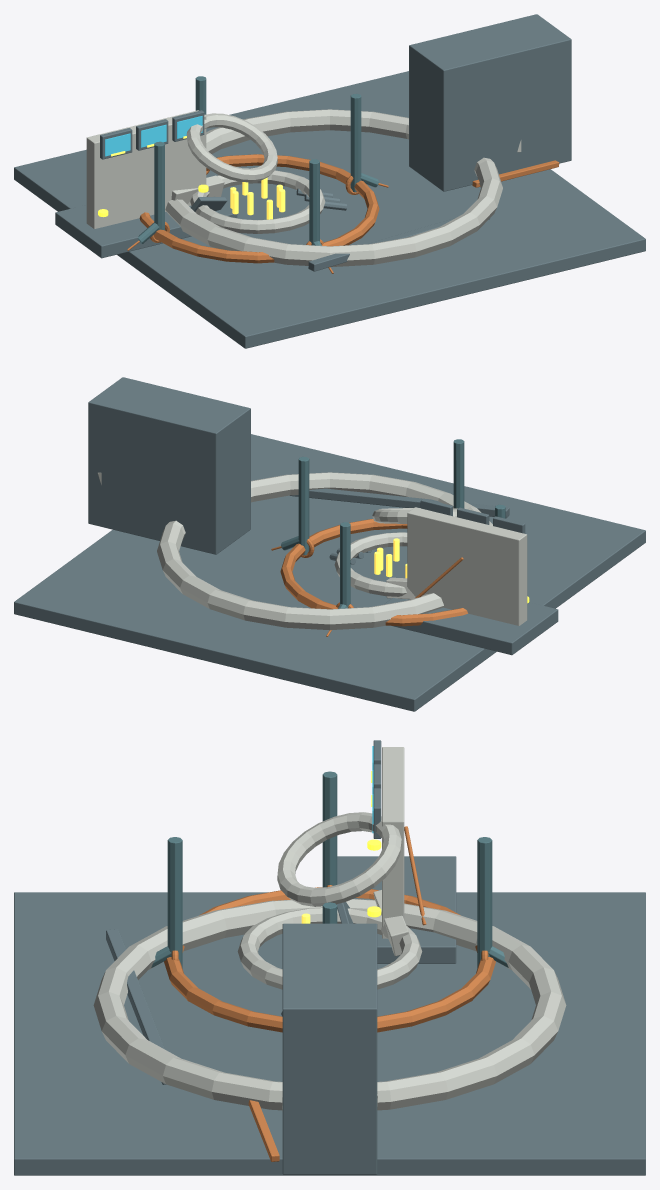
Rendered from micro_reactor_complex_d3.glb.
3 renders of one model, top to bottom at view 1: azimuth 30°, elevation 25°; view 2: azimuth 150°, elevation 25°; view 3: azimuth 270°, elevation 25°, orthographic. The views are drawn at different scales.
Visible parts, largest first — view 1: Reactor deck.003, Exchanger frame.003, Open shield ring.003, Open instrument rack.003, Manifold ring.003, Control skid base.003, Detached vessel arc, Broken lower vessel, Coolant riser.012, Coolant riser.014, Coolant riser.015, Fallen safety gantry (+2 smaller); view 2: Reactor deck.003, Exchanger frame.003, Open instrument rack.003, Open shield ring.003, Control skid base.003, Manifold ring.003, Broken lower vessel, Fallen safety gantry, Coolant riser.012, Coolant riser.013, Coolant riser.015, Detached vessel arc; view 3: Reactor deck.003, Exchanger frame.003, Open shield ring.003, Manifold ring.003, Detached vessel arc, Control skid base.003, Broken lower vessel, Open instrument rack.003, Coolant riser.013, Coolant riser.015, Fallen safety gantry, Coolant riser.014 (+2 smaller).
Boxes of the visible parts, left/top/right/bottom form: Reactor deck.003: left=14, top=71, right=645, bottom=348; Exchanger frame.003: left=409, top=14, right=571, bottom=191; Open shield ring.003: left=165, top=109, right=502, bottom=267; Open instrument rack.003: left=86, top=110, right=206, bottom=228; Manifold ring.003: left=139, top=154, right=379, bottom=263; Control skid base.003: left=55, top=196, right=237, bottom=258; Detached vessel arc: left=186, top=113, right=277, bottom=182; Broken lower vessel: left=190, top=170, right=325, bottom=233; Coolant riser.012: left=350, top=93, right=361, bottom=192; Coolant riser.014: left=154, top=141, right=164, bottom=230; Coolant riser.015: left=309, top=159, right=319, bottom=244; Fallen safety gantry: left=308, top=217, right=490, bottom=271; Reactor deck.003: left=14, top=434, right=645, bottom=711; Exchanger frame.003: left=88, top=377, right=250, bottom=554; Open instrument rack.003: left=407, top=507, right=527, bottom=625; Open shield ring.003: left=157, top=472, right=492, bottom=630; Control skid base.003: left=384, top=598, right=558, bottom=655; Manifold ring.003: left=280, top=519, right=467, bottom=626; Broken lower vessel: left=334, top=532, right=407, bottom=596; Fallen safety gantry: left=290, top=488, right=509, bottom=518; Coolant riser.012: left=298, top=456, right=309, bottom=555; Coolant riser.013: left=340, top=522, right=350, bottom=607; Coolant riser.015: left=453, top=439, right=464, bottom=508; Detached vessel arc: left=372, top=508, right=457, bottom=523; Reactor deck.003: left=14, top=892, right=645, bottom=1175; Exchanger frame.003: left=282, top=923, right=377, bottom=1174; Open shield ring.003: left=93, top=899, right=566, bottom=1110; Manifold ring.003: left=164, top=887, right=495, bottom=1032; Detached vessel arc: left=277, top=812, right=401, bottom=906; Control skid base.003: left=337, top=856, right=456, bottom=963; Broken lower vessel: left=237, top=907, right=422, bottom=989; Open instrument rack.003: left=382, top=747, right=404, bottom=938; Coolant riser.013: left=477, top=837, right=492, bottom=968; Coolant riser.015: left=167, top=837, right=182, bottom=968; Fallen safety gantry: left=106, top=929, right=165, bottom=1084; Coolant riser.014: left=322, top=771, right=337, bottom=887.
Size of the model in its own units: 11.3 by 3.2 by 10.
